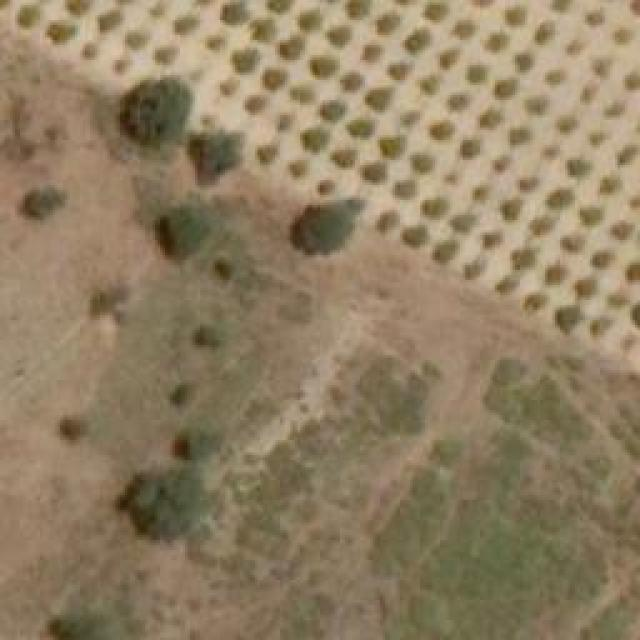Tree: (120, 470, 198, 540), (125, 75, 188, 148), (295, 200, 355, 255), (188, 132, 241, 180), (158, 207, 203, 255), (45, 610, 113, 640), (15, 188, 63, 223), (175, 428, 218, 463), (55, 410, 93, 448), (193, 323, 226, 353), (210, 253, 240, 282), (167, 378, 195, 408), (402, 28, 430, 53), (47, 20, 75, 43), (375, 210, 398, 236), (610, 218, 634, 242), (480, 105, 503, 130), (493, 78, 518, 101), (280, 35, 305, 58), (608, 288, 631, 313), (247, 20, 275, 40), (590, 248, 615, 270), (423, 2, 449, 23), (543, 190, 573, 208), (392, 180, 420, 198), (433, 243, 458, 263), (600, 98, 625, 118), (430, 120, 455, 140), (413, 153, 438, 173), (363, 160, 388, 180), (303, 130, 328, 150), (263, 68, 288, 88), (233, 50, 258, 70), (125, 30, 150, 50), (272, 112, 294, 134), (288, 155, 310, 177), (587, 315, 609, 336), (378, 13, 401, 33), (368, 88, 391, 108), (568, 158, 591, 178), (220, 3, 243, 23), (98, 10, 121, 30), (153, 45, 176, 65), (600, 175, 625, 193), (445, 92, 470, 110), (465, 65, 490, 83), (323, 102, 348, 120), (173, 15, 198, 33), (547, 67, 568, 88), (517, 172, 539, 192), (583, 10, 606, 29), (80, 40, 101, 60), (313, 57, 336, 75), (403, 225, 426, 243), (333, 147, 356, 165), (440, 45, 458, 68), (345, 0, 368, 18), (18, 7, 41, 25), (500, 200, 520, 220), (460, 138, 480, 158), (115, 55, 134, 75), (485, 35, 510, 50), (450, 215, 475, 230), (388, 63, 413, 78), (505, 7, 525, 25), (328, 25, 348, 43), (302, 8, 320, 28), (525, 97, 545, 115), (508, 127, 528, 145), (420, 75, 440, 93), (245, 95, 265, 113), (515, 50, 533, 70), (593, 60, 613, 78), (362, 40, 380, 60), (218, 77, 238, 95), (562, 40, 582, 58), (68, 0, 92, 15), (380, 138, 403, 153), (350, 120, 373, 135), (530, 218, 553, 233), (423, 200, 446, 215), (400, 110, 423, 125), (290, 85, 313, 100), (560, 307, 578, 325), (497, 275, 515, 293), (465, 260, 483, 278), (617, 147, 635, 165), (317, 177, 335, 195), (575, 280, 595, 295), (525, 293, 545, 308), (513, 250, 533, 265), (580, 208, 600, 223), (558, 115, 578, 130), (625, 70, 640, 90), (343, 73, 363, 88), (583, 85, 598, 104), (535, 22, 550, 40), (560, 238, 578, 253), (482, 233, 500, 248), (542, 145, 560, 160), (492, 158, 510, 173), (472, 185, 490, 200), (257, 145, 275, 160), (552, 0, 572, 13), (458, 23, 473, 38), (548, 268, 563, 283), (625, 265, 640, 280), (615, 28, 630, 43), (208, 35, 223, 50)
